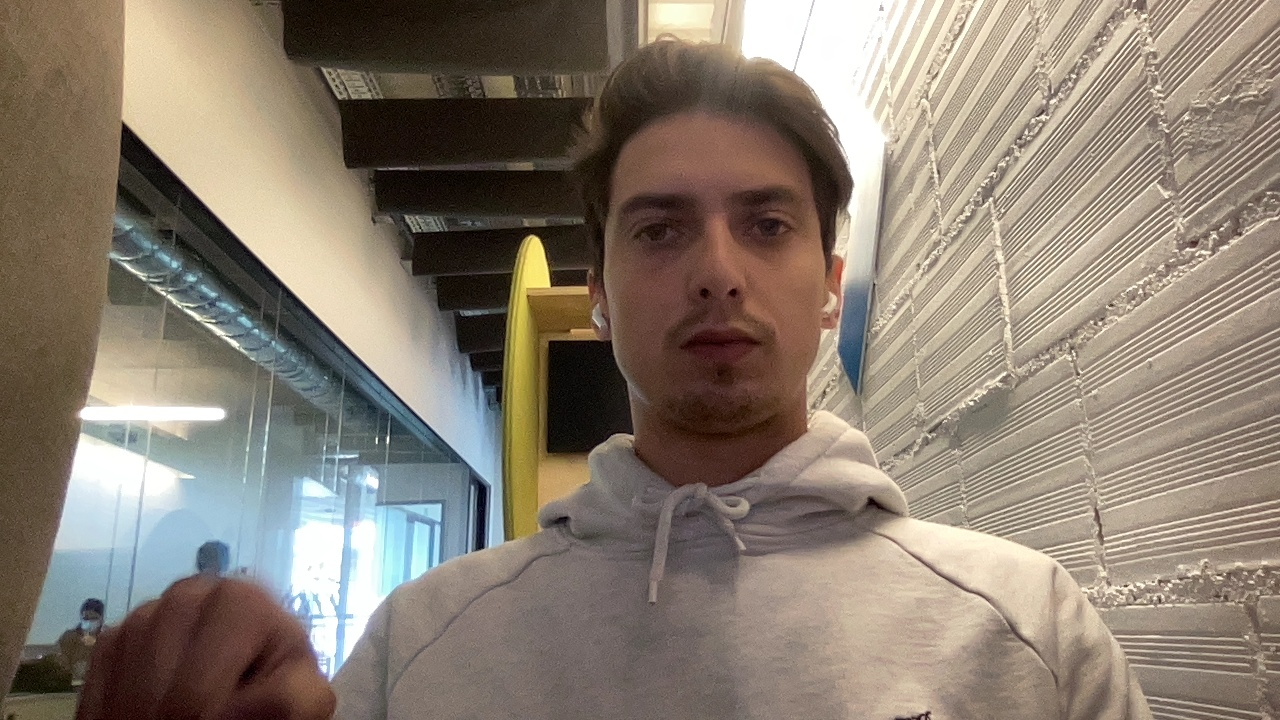yes: (16, 567, 364, 714)
